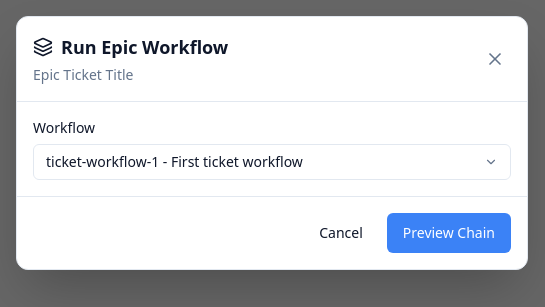
Scenario: RunEpicWorkflowDialog › edge cases › handles chain with no items
Click the button "Preview Chain". click: coordinates (449, 233)
box: [387, 213, 511, 253]
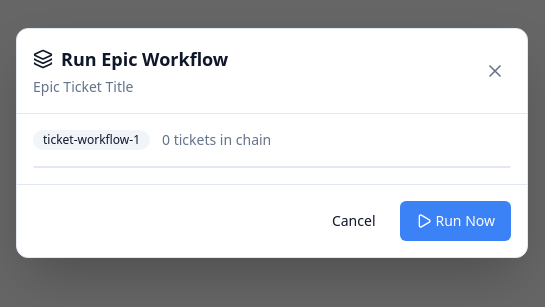
Expected: the text "0 tickets in chain" is shown, [162, 130, 271, 150]
